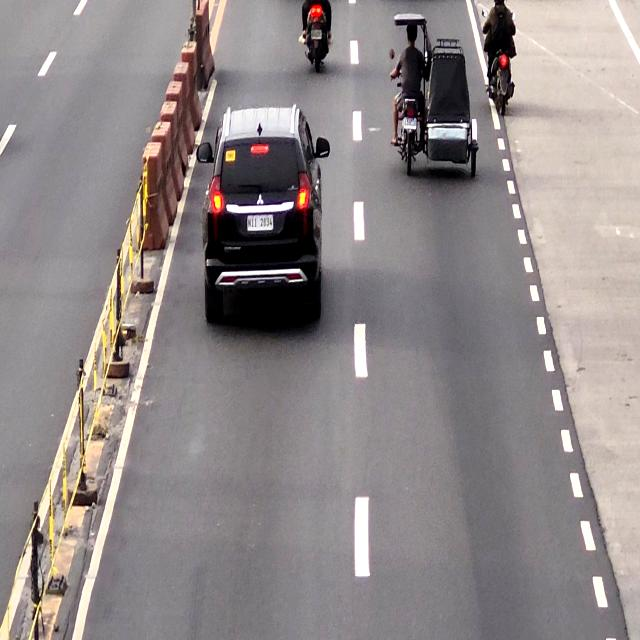Car: (209, 106, 318, 324)
License-Plate: (247, 213, 275, 236), (401, 118, 417, 128)
Motorcycle: (489, 0, 512, 119), (302, 0, 332, 75)
Tricycle: (393, 15, 477, 177)
